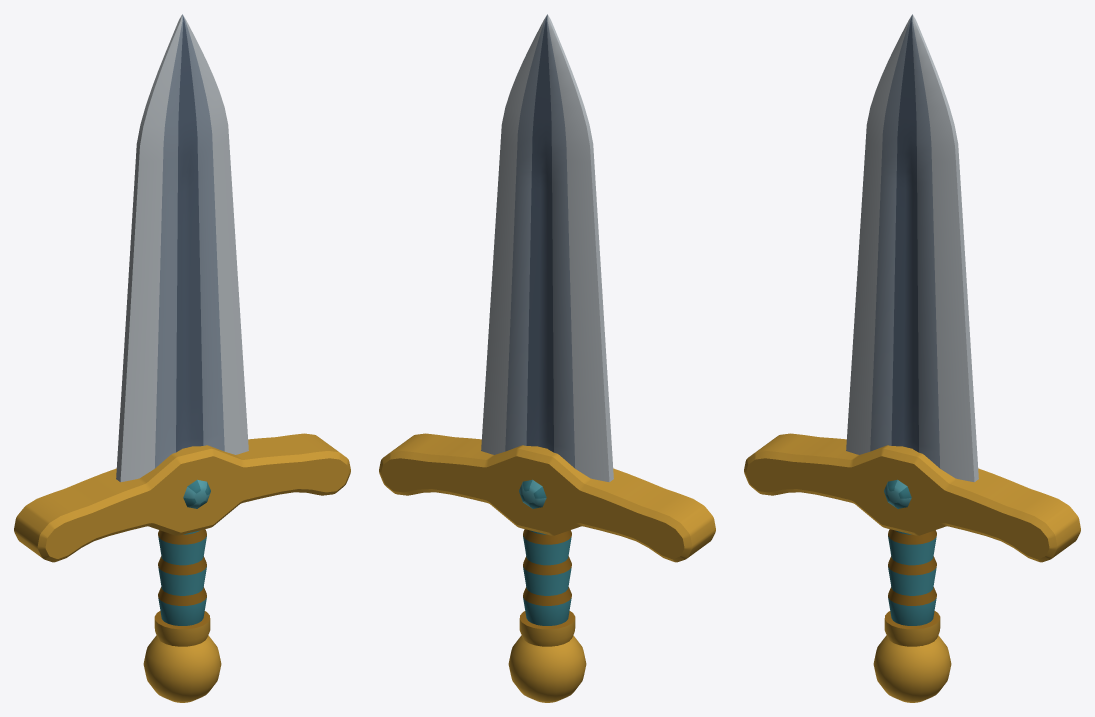
Rendered from Broadsword_17.glb.
3 views of the same model, side by side, from view 1: azimuth 30°, elevation 25°; view 2: azimuth 150°, elevation 25°; view 3: azimuth 330°, elevation 25° (orthographic).
Parts seen in each view (by area): view 1: Broadsword_17; view 2: Broadsword_17; view 3: Broadsword_17.
Boxes of the visible parts, left/top/right/bottom form: Broadsword_17: left=14, top=14, right=350, bottom=702; Broadsword_17: left=379, top=14, right=715, bottom=702; Broadsword_17: left=744, top=14, right=1080, bottom=702.
Size of the model in its own units: 2.84 by 5.94 by 0.612.
